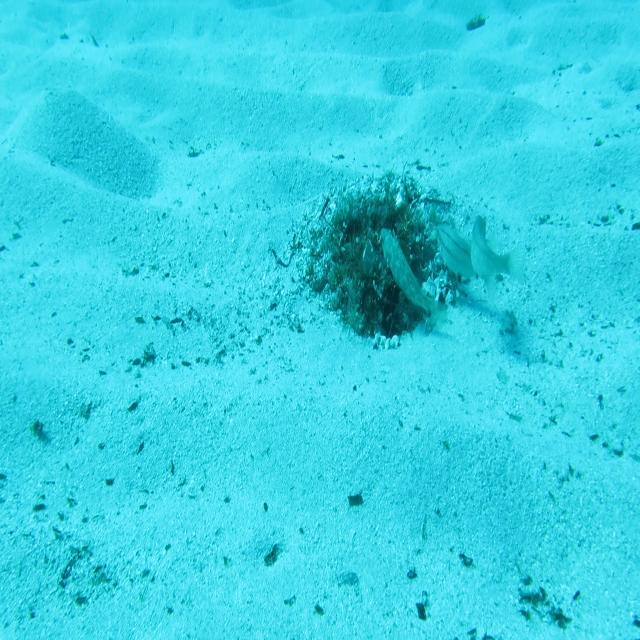FAN: (380, 226, 450, 335)
core_nest: (357, 202, 411, 242)
female: (436, 220, 497, 310), (470, 212, 528, 289)
nest: (312, 175, 463, 344)
vegetation: (464, 10, 488, 31), (264, 543, 279, 569), (347, 492, 364, 508)
